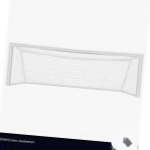goals: (4, 40, 144, 99)
